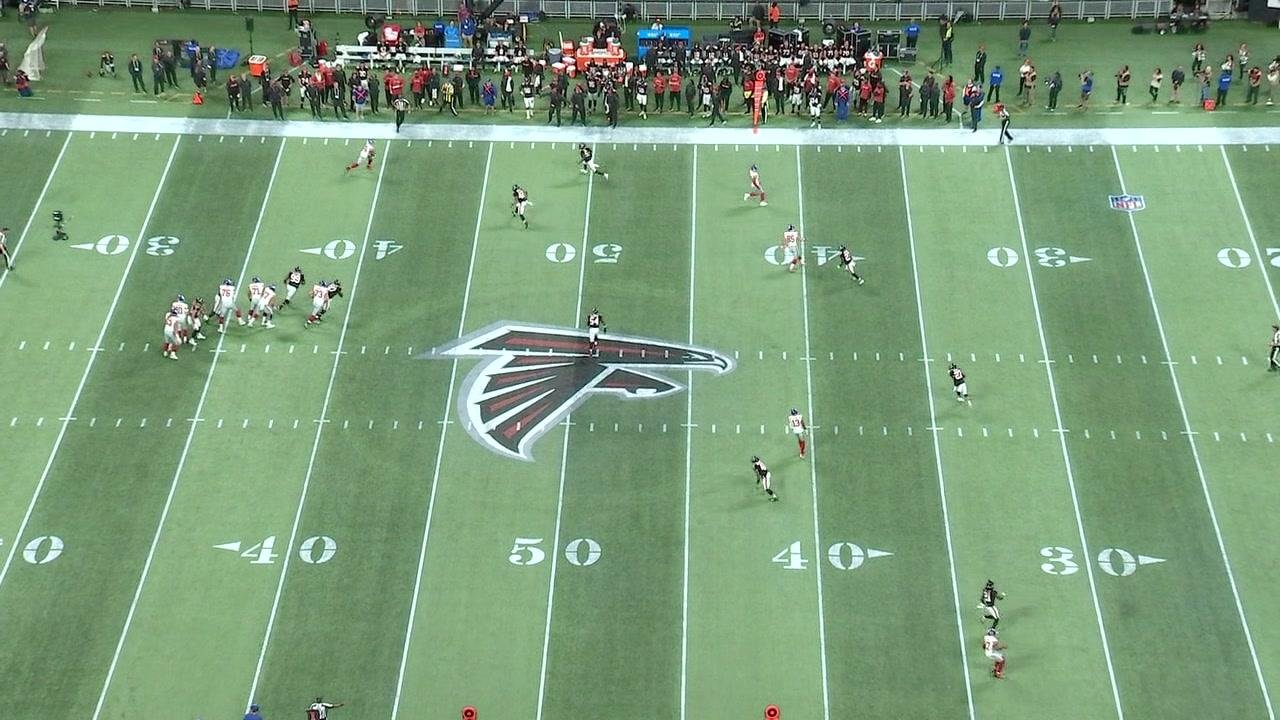defense: (977, 579, 1009, 636), (748, 455, 781, 505), (277, 265, 308, 315), (205, 276, 236, 325), (314, 278, 344, 325), (575, 142, 610, 182), (836, 243, 866, 289), (507, 183, 535, 230), (585, 305, 609, 358), (944, 362, 974, 404), (185, 295, 209, 347)
oline: (214, 277, 247, 334), (247, 283, 280, 330), (303, 279, 332, 330), (246, 274, 269, 330), (161, 306, 183, 362)
qb: (169, 293, 192, 347)
ref: (305, 696, 347, 720), (994, 104, 1015, 147), (0, 224, 17, 273), (392, 94, 411, 134), (1266, 323, 1280, 375)
skill: (783, 406, 812, 461), (980, 627, 1009, 681), (342, 137, 380, 178), (779, 223, 807, 275), (743, 163, 769, 207)
